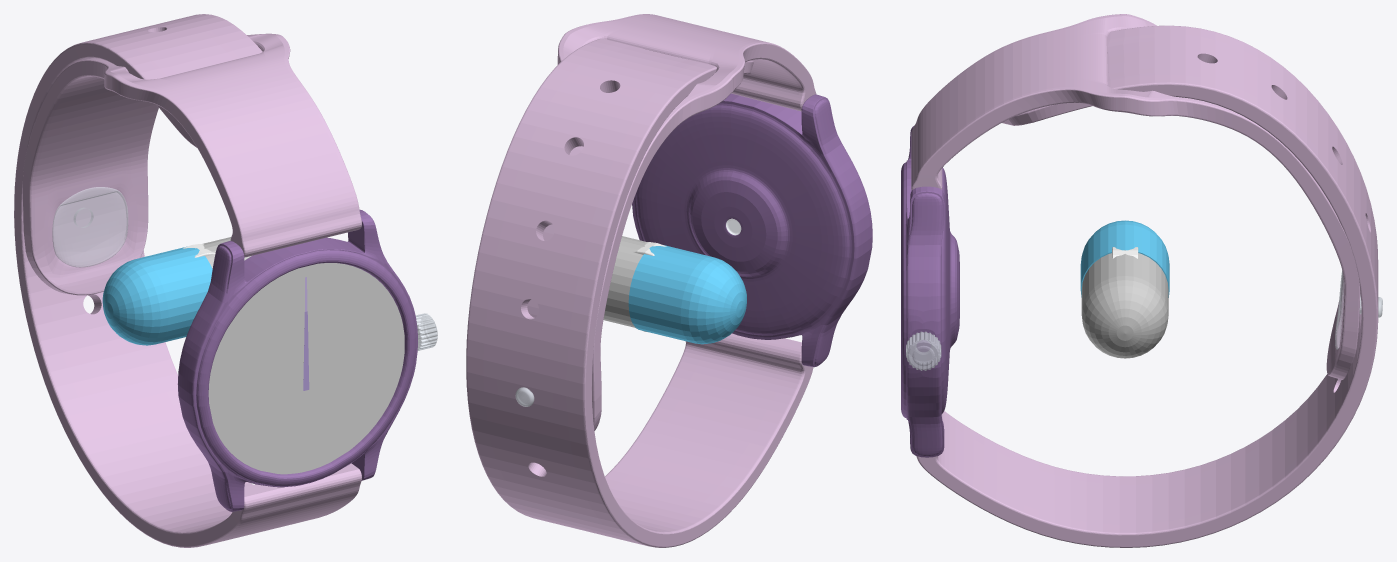
File: caregem.glb
3 renders of one model, left to right at view 1: azimuth 30°, elevation 25°; view 2: azimuth 150°, elevation 25°; view 3: azimuth 270°, elevation 25°, orthographic.
Visible parts, largest first — view 1: strap.002, strap, screen, watch, capsuleColor, strap magnet, crown; view 2: strap, watch, strap.002, capsuleColor, capsuleWhite; view 3: strap, strap.002, watch, capsuleWhite, capsuleColor, crown.
Part boxes in pixels (x1,y1,x2,y2): strap.002: [23, 33, 361, 295]; strap: [14, 14, 361, 547]; screen: [208, 263, 404, 474]; watch: [177, 209, 417, 511]; capsuleColor: [102, 246, 212, 345]; strap magnet: [52, 187, 128, 267]; crown: [415, 313, 437, 350]; strap: [466, 39, 813, 547]; watch: [632, 93, 872, 367]; strap.002: [518, 14, 816, 430]; capsuleColor: [628, 245, 746, 344]; capsuleWhite: [603, 236, 646, 327]; strap: [916, 25, 1378, 547]; strap.002: [911, 14, 1360, 379]; watch: [901, 126, 959, 457]; capsuleWhite: [1081, 253, 1168, 358]; capsuleColor: [1080, 220, 1169, 297]; crown: [906, 331, 941, 370].
Size of the model in its own units: 1.95 by 3.47 by 3.26.
